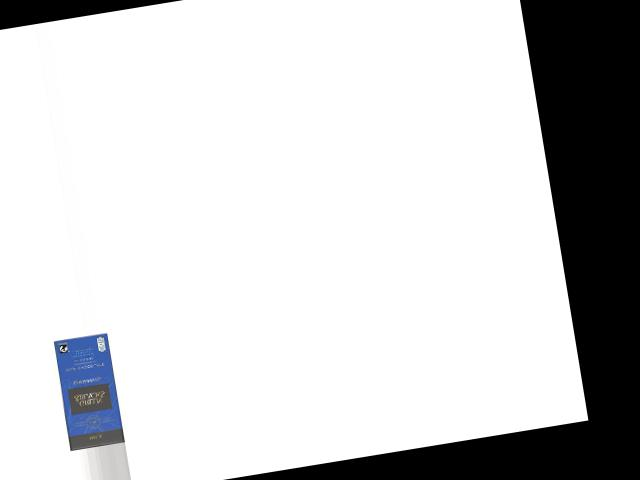chocolate: (52, 334, 126, 450)
